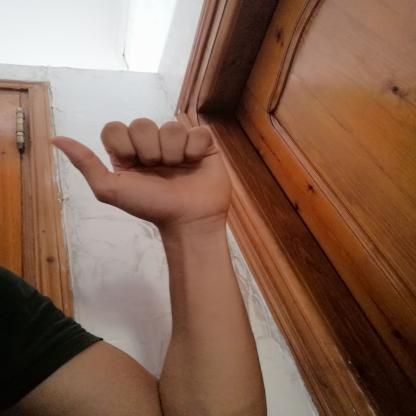DAD: (35, 110, 246, 236)
